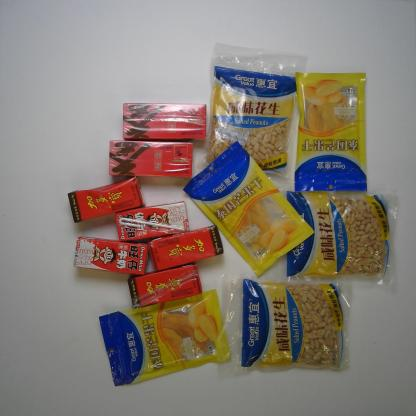Dried Fruit: (179, 138, 318, 280), (198, 39, 311, 190), (212, 268, 360, 375), (267, 183, 408, 295), (96, 287, 235, 391), (290, 69, 374, 195)
Drink: (146, 222, 226, 273), (65, 174, 146, 224), (126, 260, 204, 310)
Instant Drink: (120, 101, 210, 142), (107, 138, 196, 178)
Milk: (112, 200, 192, 245), (71, 235, 151, 277)
